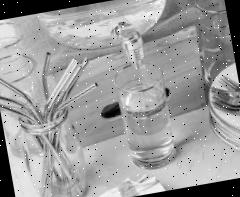glass: (10, 54, 183, 197)
